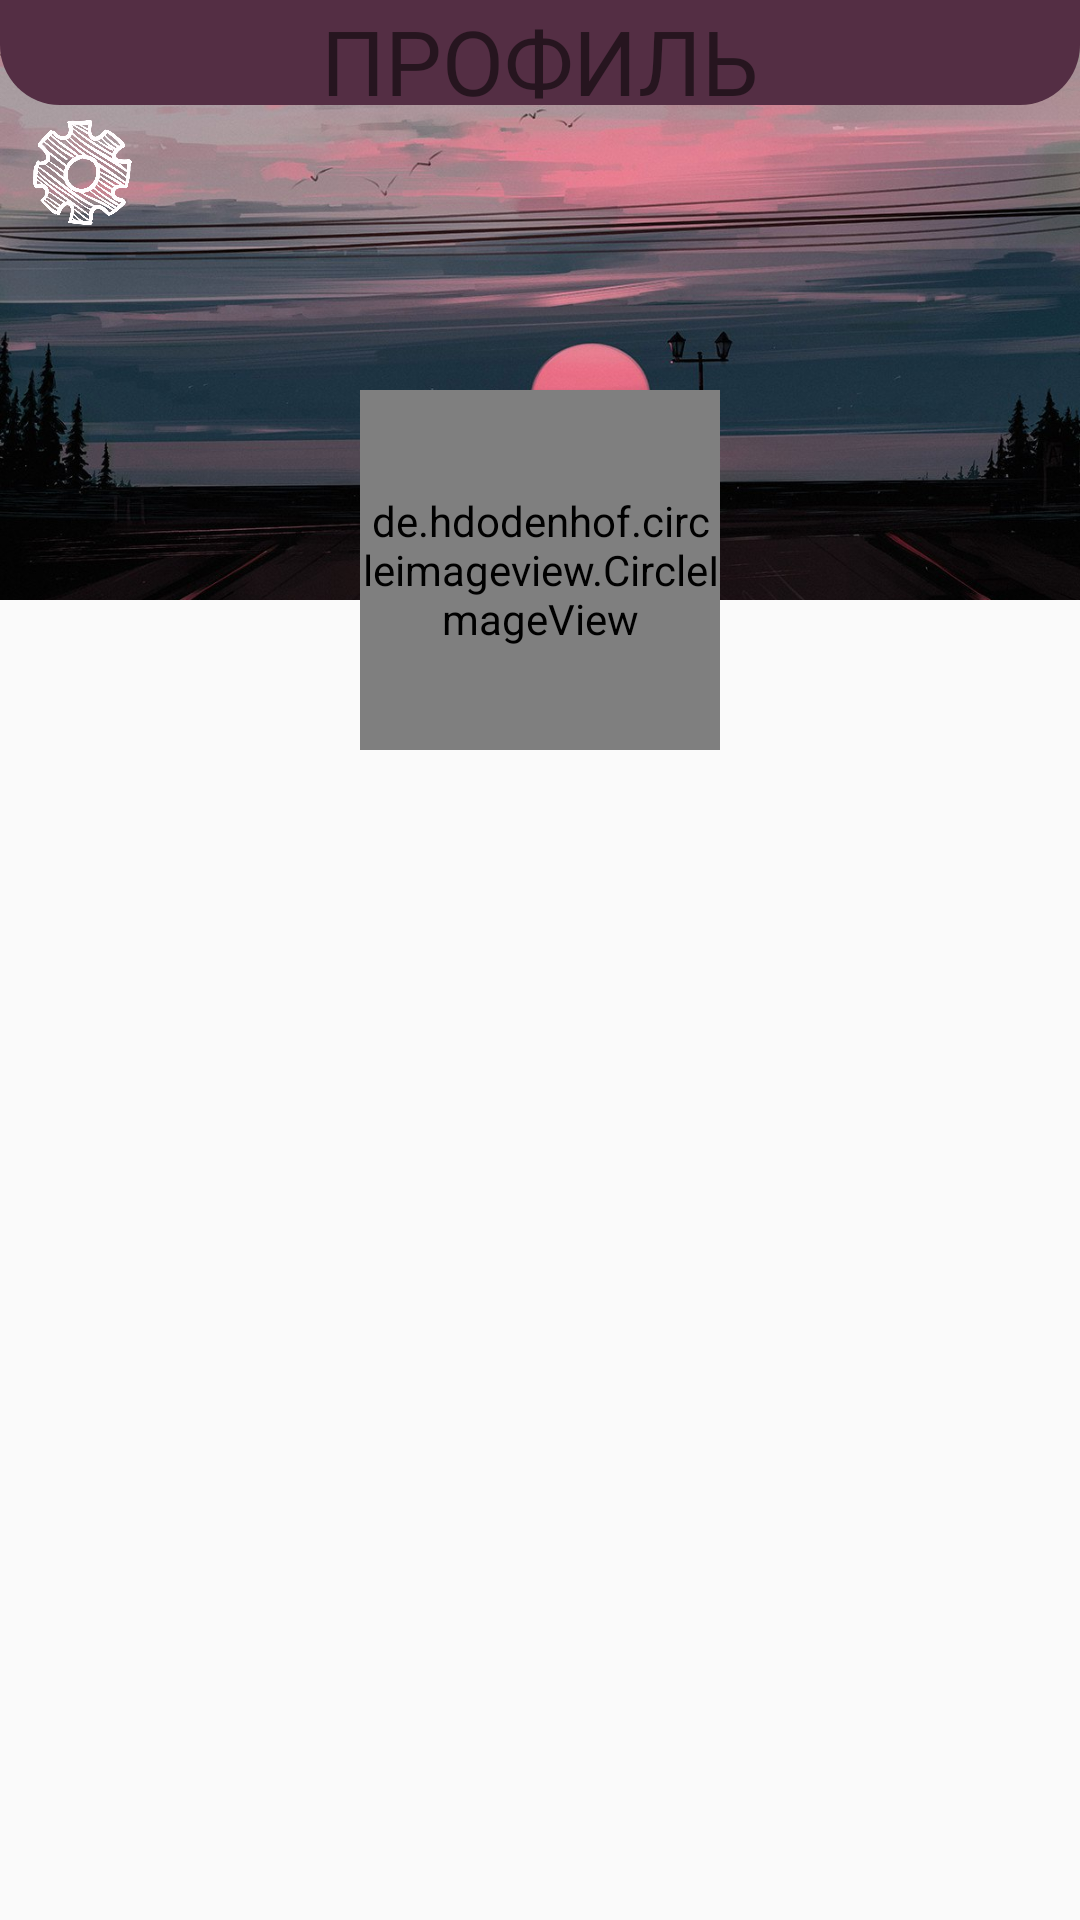

Icons on this 1080*1920 Android screen, each with the point to tap as (x,y):
cog: (82,172)
